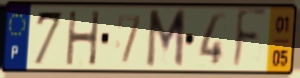4: (197, 12, 226, 69)
7: (33, 9, 66, 66), (115, 13, 142, 64)
F: (230, 7, 269, 74)
H: (65, 9, 102, 68)
M: (144, 8, 188, 71)
